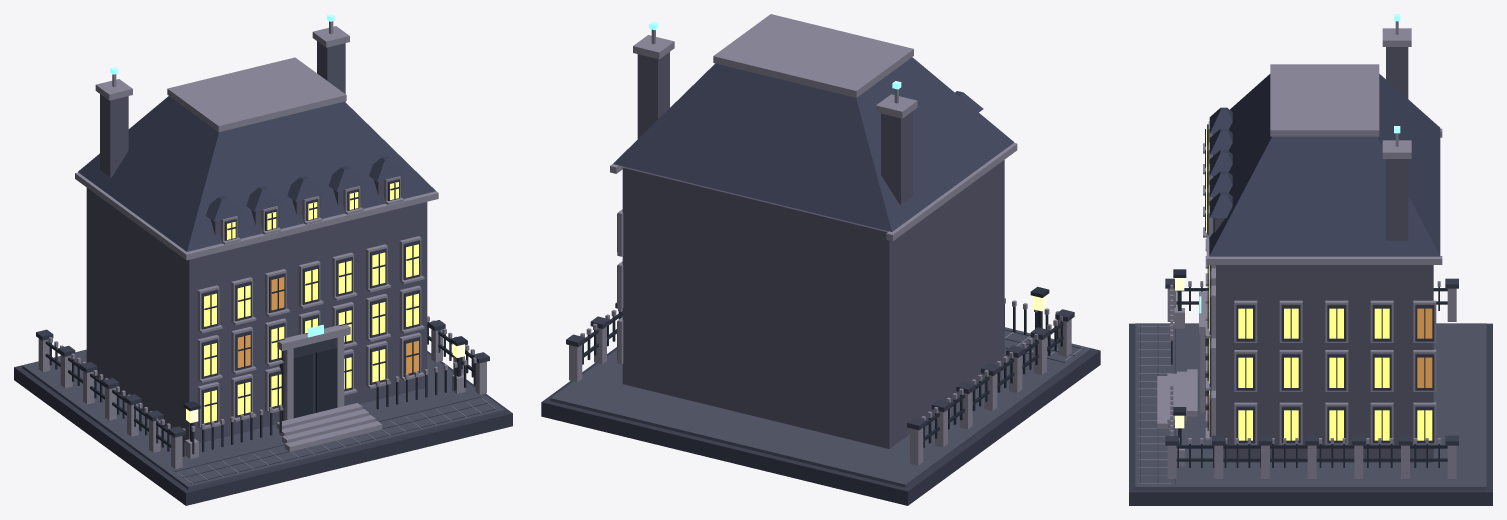
Rendered from account_building_01.glb.
The picture shows the model from 3 angles, left to right: view 1: azimuth 30°, elevation 25°; view 2: azimuth 150°, elevation 25°; view 3: azimuth 270°, elevation 25°; orthographic projection. The views are drawn at different scales.
Parts seen in each view (by area): view 1: SM_Account_Building_01; view 2: SM_Account_Building_01; view 3: SM_Account_Building_01.
Part boxes in pixels (x1=…): SM_Account_Building_01: x1=14, y1=14, x2=512, y2=505; SM_Account_Building_01: x1=541, y1=14, x2=1100, y2=505; SM_Account_Building_01: x1=1129, y1=14, x2=1492, y2=505.
Size of the model in its own units: 10.1 by 9.78 by 9.2.
